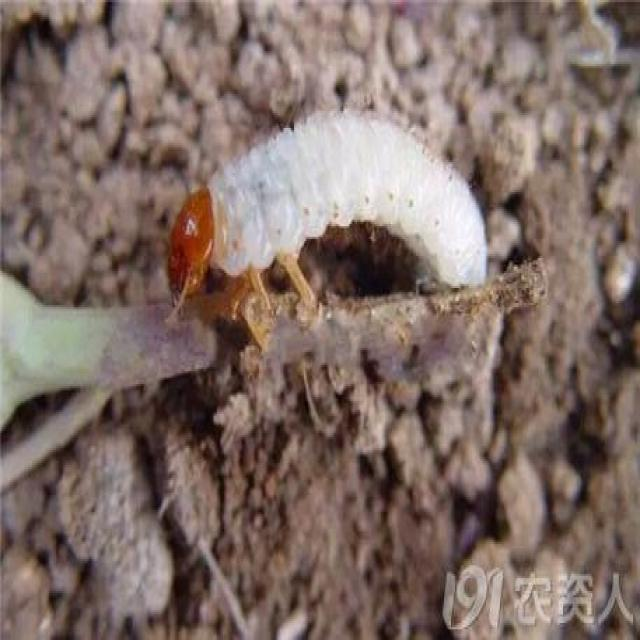Grub-Adult-: (156, 95, 509, 352)
